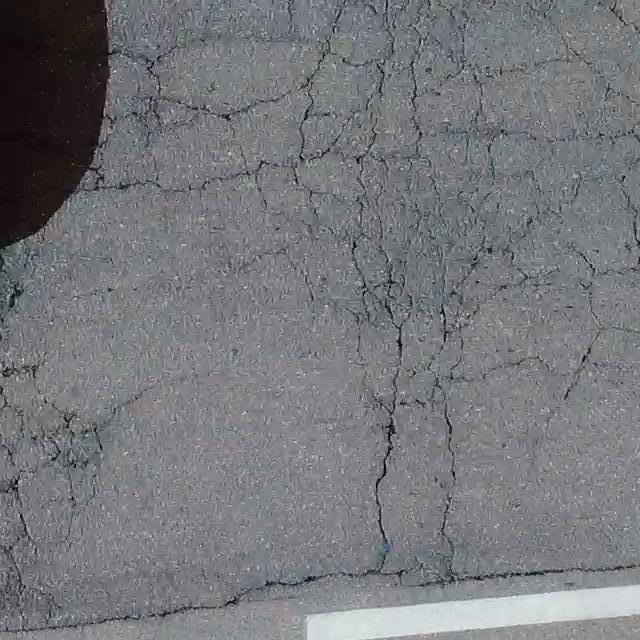GRIETA: (60, 569, 379, 630), (460, 563, 639, 582)
PIEL DE COCODRILO: (71, 0, 639, 593), (0, 356, 125, 639)
